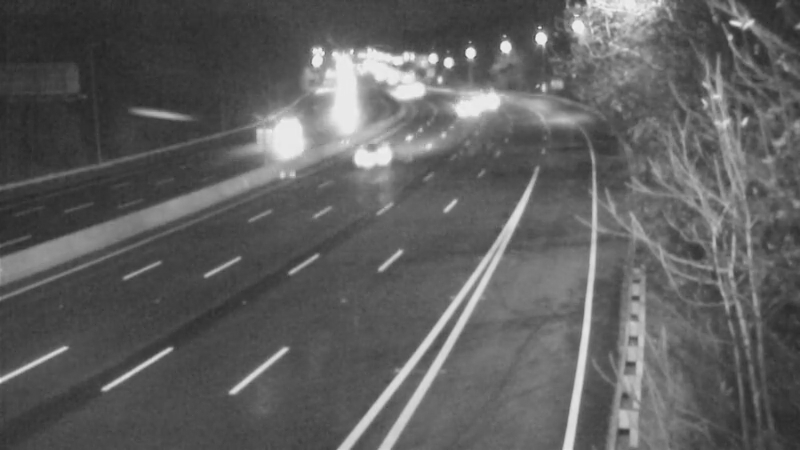vehicle: (330, 112, 410, 192), (379, 70, 429, 120), (462, 74, 512, 124), (440, 83, 490, 133), (258, 124, 308, 174), (320, 93, 370, 143)
